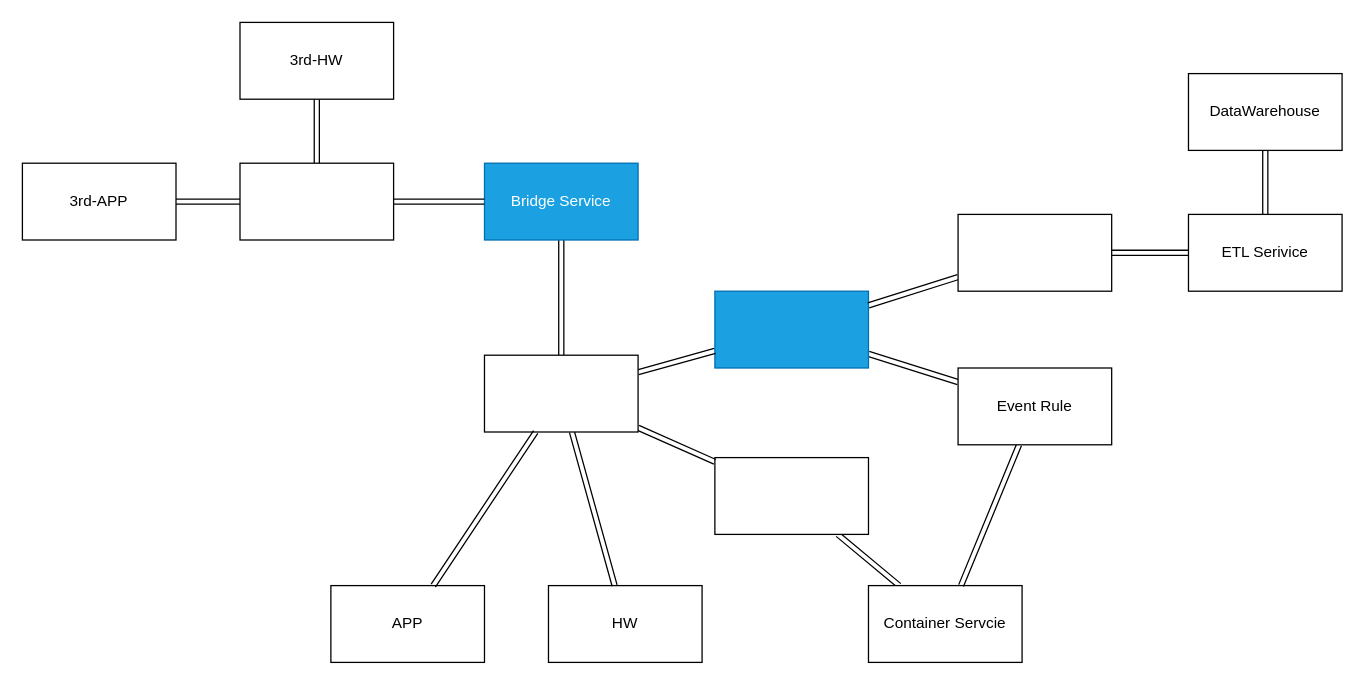
Some shapes in this 1364 by 685 pixel diagram are drawn without their labels. The shapes that lost their labels are listed below. From the top down, each one's box as (x1, y1, x2, y2) in pixels, then its label:
(239, 162, 394, 240): 3rd-party Cloud
(957, 213, 1112, 291): DataLake
(714, 290, 868, 368): Messaging
(483, 354, 638, 432): Auth
(714, 456, 868, 534): API Gateway
